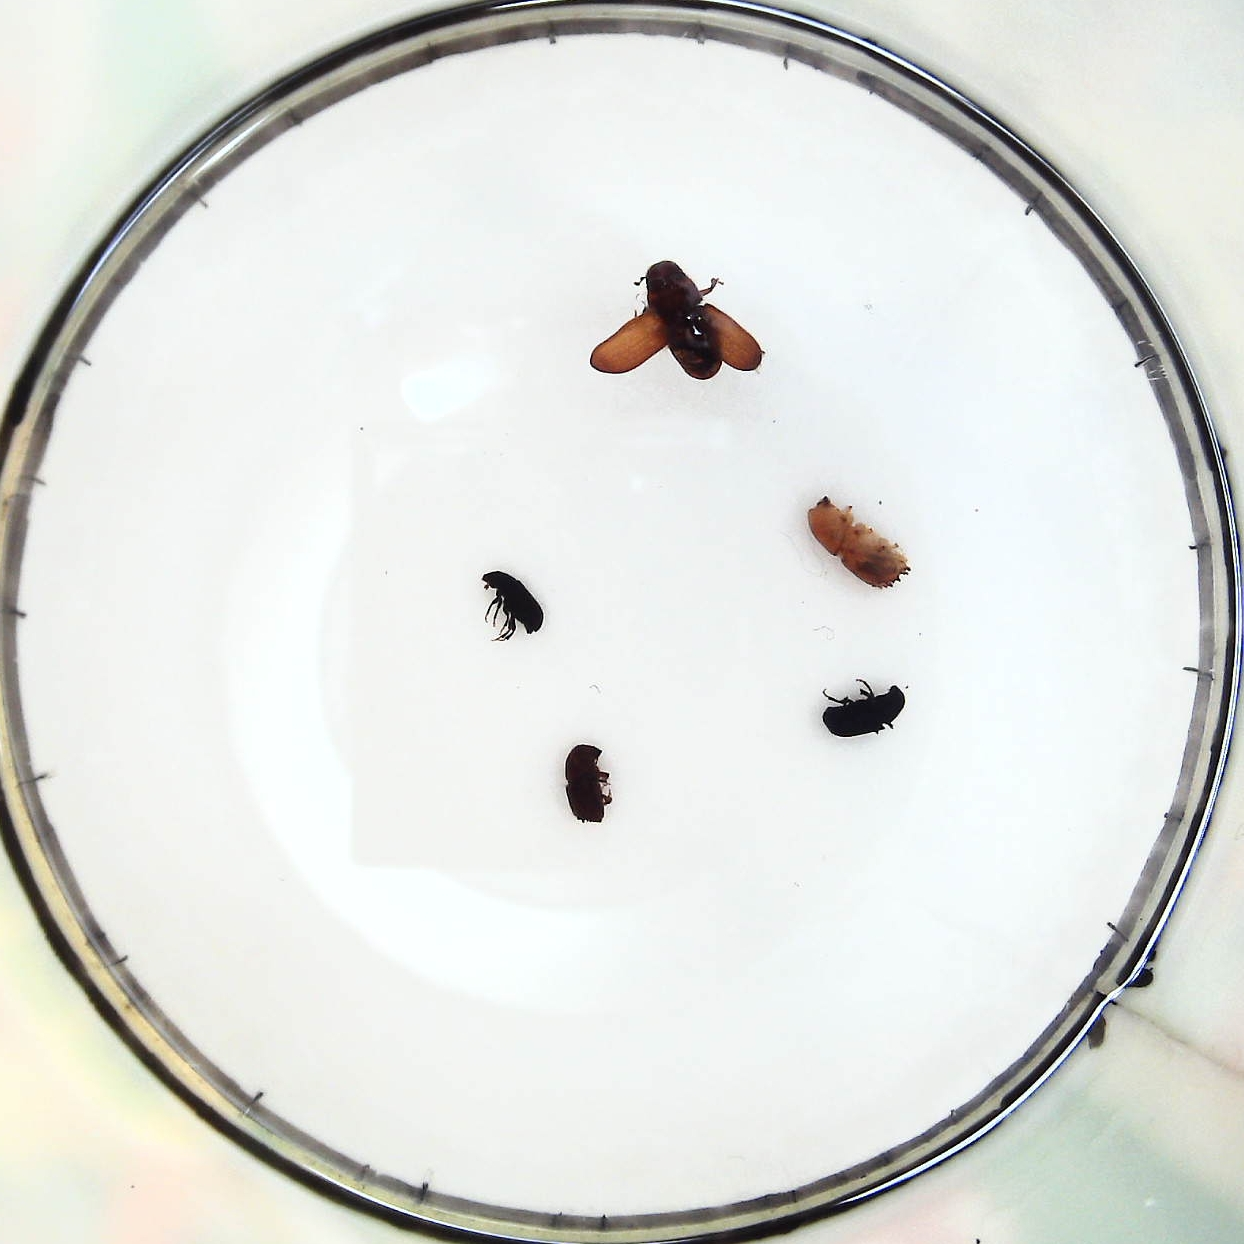Boerner: (805, 492, 911, 589)
Leconte: (590, 256, 766, 388)
Linnaeus: (560, 742, 612, 822)
armandi: (818, 681, 909, 738)
coleoptera: (481, 568, 542, 639)
